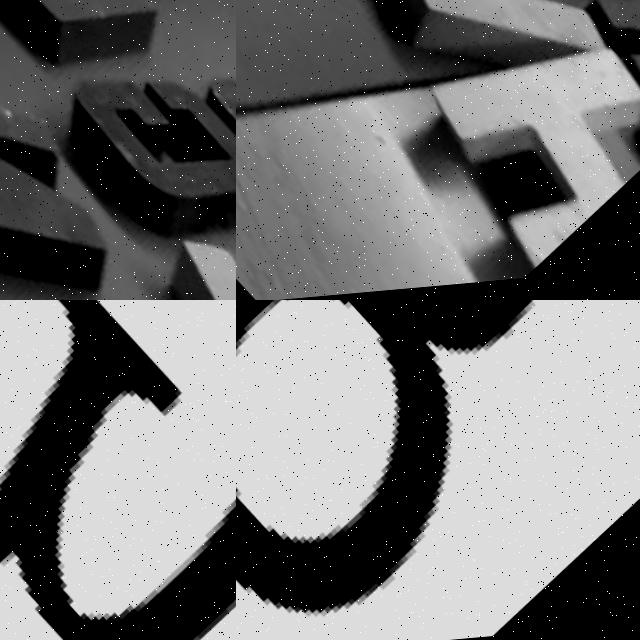8: (236, 300, 640, 640)
B: (79, 0, 207, 28)
E: (1, 0, 175, 109)
G: (0, 300, 236, 640), (50, 30, 236, 300)
H: (389, 0, 640, 290)
L: (313, 0, 612, 161)
M: (537, 0, 640, 165)
N: (0, 33, 150, 300)
U: (194, 37, 236, 237)
